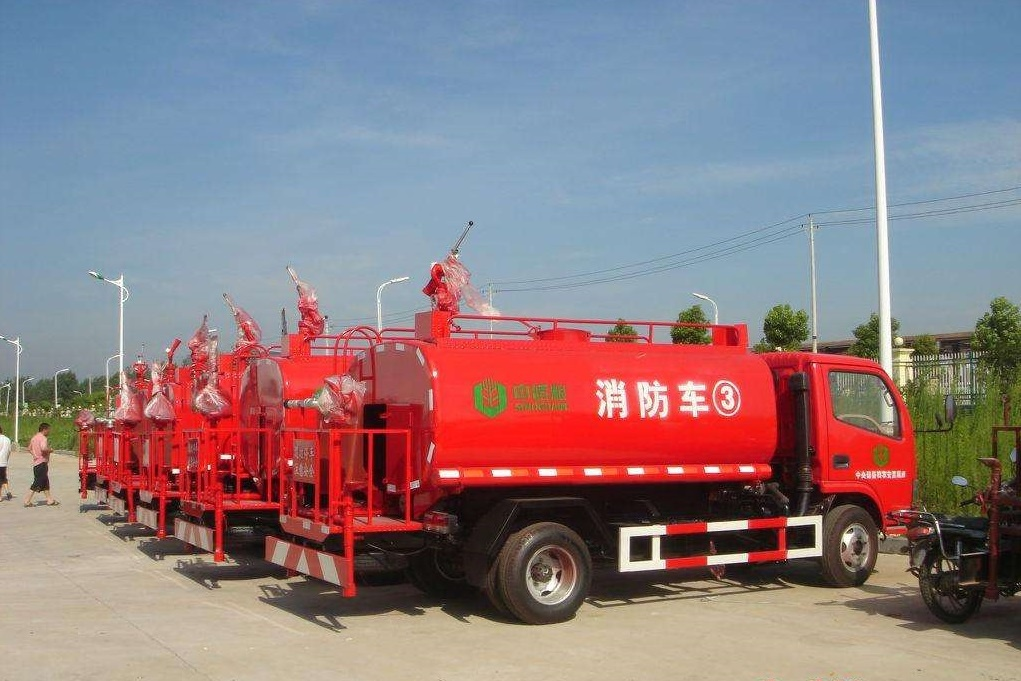fire engine: (296, 299, 917, 605)
